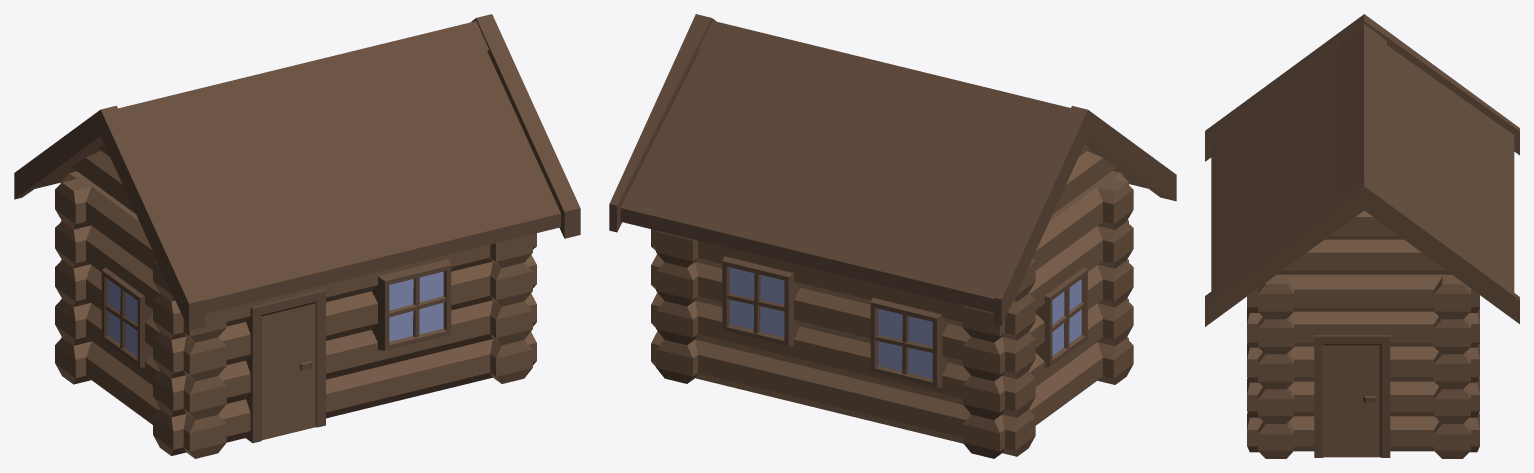
Rendered from house_forest.fbx.
3 views of the same model, side by side, from view 1: azimuth 30°, elevation 25°; view 2: azimuth 150°, elevation 25°; view 3: azimuth 270°, elevation 25° (orthographic). The views are drawn at different scales.
Parts seen in each view (by area): view 1: house_forest; view 2: house_forest; view 3: house_forest.
Part boxes in pixels (x1=…): house_forest: x1=14, y1=14, x2=580, y2=458; house_forest: x1=609, y1=14, x2=1176, y2=458; house_forest: x1=1205, y1=14, x2=1519, y2=458.
Bounding box in the file's own units: 1183 × 898 × 913.
